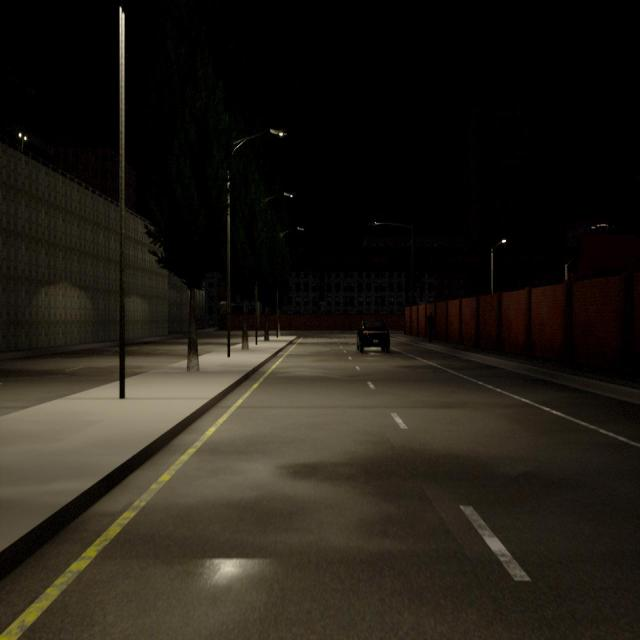Pedestrian: (427, 311, 434, 343)
Vehicle: (356, 320, 389, 352)
